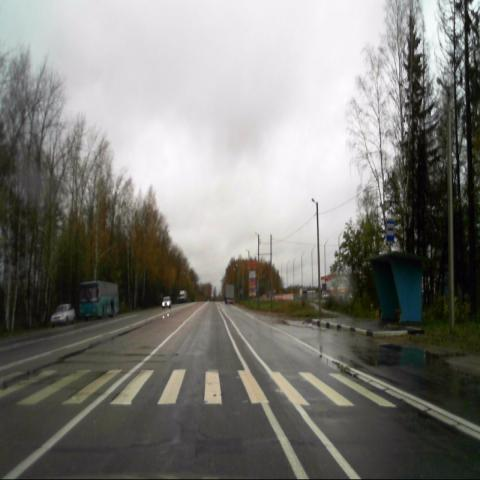5_16: (386, 221, 395, 242)
